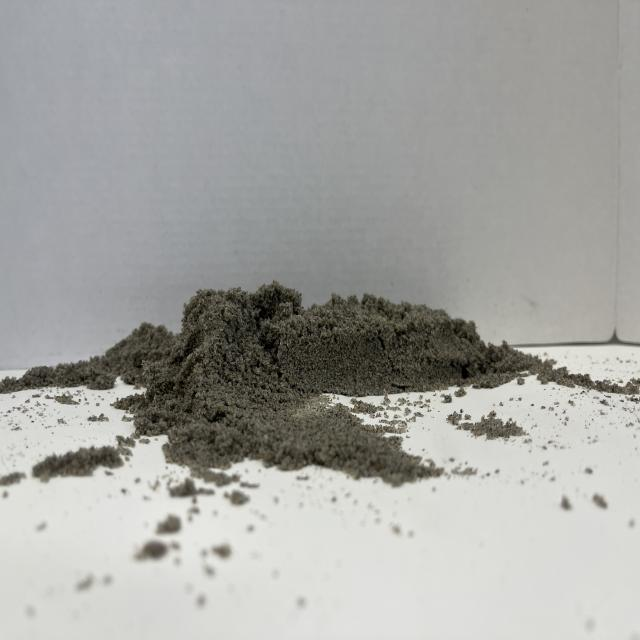sand: (71, 264, 572, 470)
